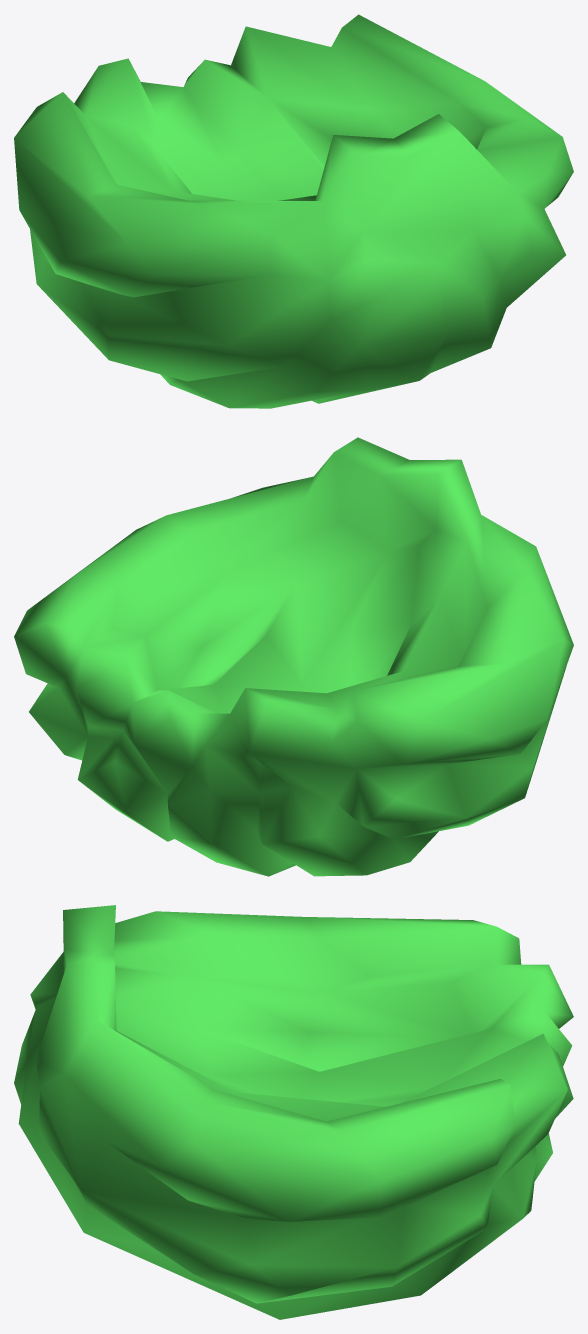
Rendered from SM_town_banana.fbx.
3 views of the same model, one above another, from view 1: azimuth 30°, elevation 25°; view 2: azimuth 150°, elevation 25°; view 3: azimuth 270°, elevation 25° (orthographic). The views are drawn at different scales.
Parts seen in each view (by area): view 1: banana_low; view 2: banana_low; view 3: banana_low.
Boxes of the visible parts, x1,y1,x2,y2 form: banana_low: [14, 14, 573, 408]; banana_low: [14, 437, 573, 876]; banana_low: [14, 905, 573, 1319].
Size of the model in its own units: 22.26 by 14.12 by 20.87.
